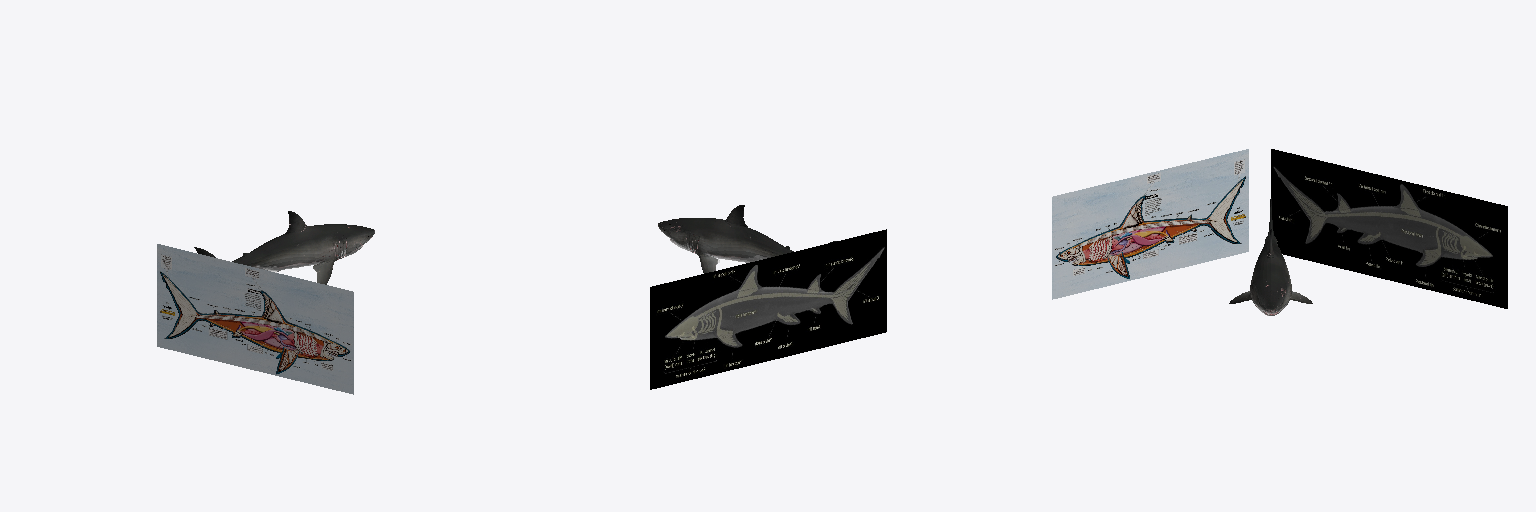
The picture shows the model from 3 angles: view 1: azimuth 30°, elevation 25°; view 2: azimuth 150°, elevation 25°; view 3: azimuth 270°, elevation 25°; orthographic projection.
Parts seen in each view (by area): view 1: Plane, GreatWhite; view 2: Plane.001, GreatWhite; view 3: Plane.001, Plane, GreatWhite.
Boxes of the visible parts, x1,y1,x2,y2 form: Plane: [157, 244, 353, 394]; GreatWhite: [194, 211, 374, 284]; Plane.001: [650, 229, 886, 389]; GreatWhite: [658, 205, 836, 273]; Plane.001: [1271, 149, 1507, 308]; Plane: [1052, 149, 1248, 299]; GreatWhite: [1229, 198, 1312, 315].
Bounding box in the file's own units: 23.24 × 10 × 40.06.
3 materials, 3 textured.